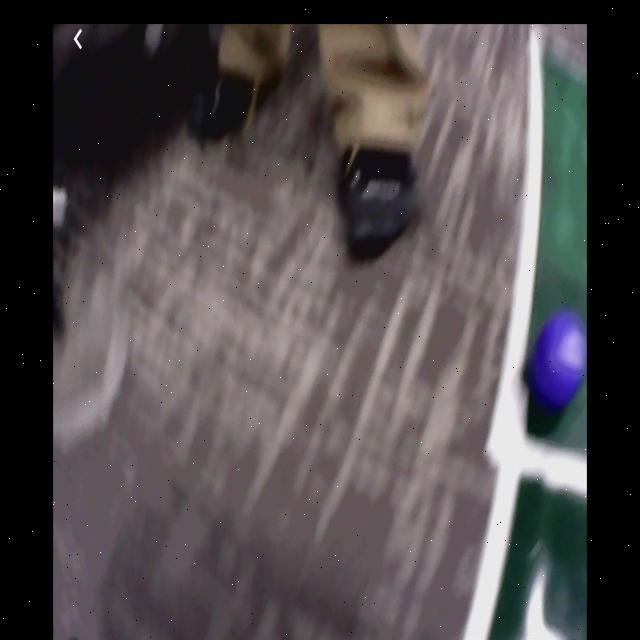ball: (529, 318, 587, 406)
